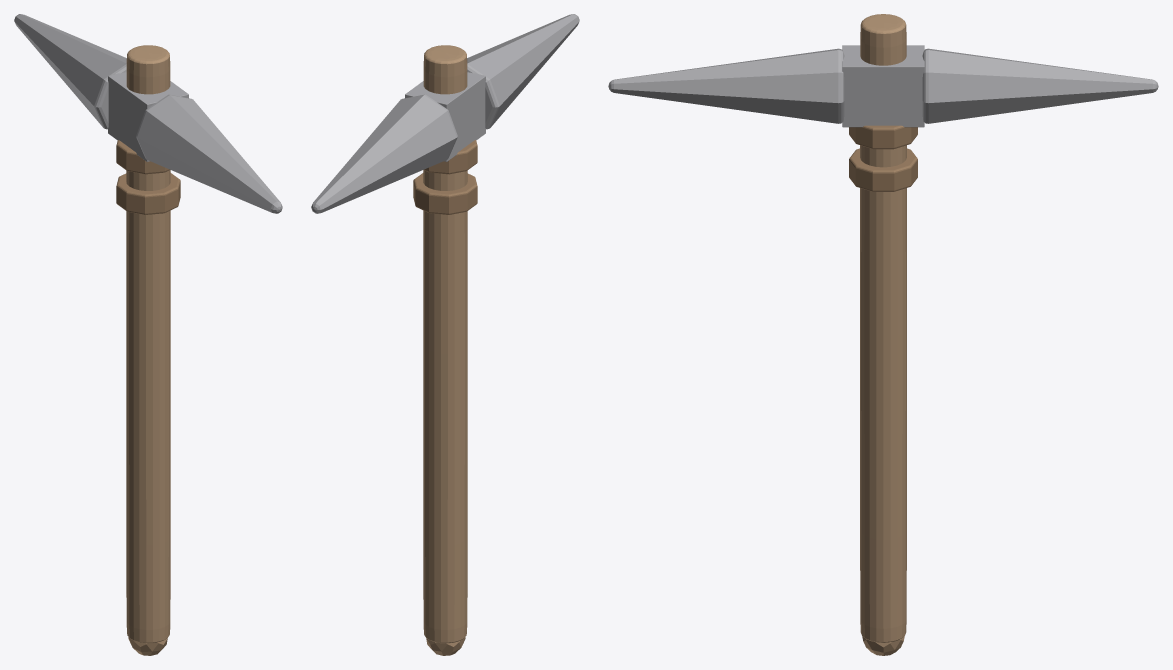
Rendered from 13-Herramientas_pico_piedra.glb.
The picture shows the model from 3 angles, left to right: view 1: azimuth 30°, elevation 25°; view 2: azimuth 150°, elevation 25°; view 3: azimuth 270°, elevation 25°; orthographic projection. The views are drawn at different scales.
Parts seen in each view (by area): view 1: SM_PicoPiedra_M_Madera_Mango, SM_PicoPiedra_M_Piedra_Pico, SM_PicoPiedra_M_Cuero_Atadura; view 2: SM_PicoPiedra_M_Madera_Mango, SM_PicoPiedra_M_Piedra_Pico, SM_PicoPiedra_M_Cuero_Atadura; view 3: SM_PicoPiedra_M_Piedra_Pico, SM_PicoPiedra_M_Madera_Mango, SM_PicoPiedra_M_Cuero_Atadura.
Part boxes in pixels (bbox=[...]): SM_PicoPiedra_M_Madera_Mango: bbox=[126, 45, 170, 655]; SM_PicoPiedra_M_Piedra_Pico: bbox=[14, 14, 282, 213]; SM_PicoPiedra_M_Cuero_Atadura: bbox=[116, 140, 180, 214]; SM_PicoPiedra_M_Madera_Mango: bbox=[423, 45, 467, 655]; SM_PicoPiedra_M_Piedra_Pico: bbox=[311, 14, 579, 213]; SM_PicoPiedra_M_Cuero_Atadura: bbox=[413, 140, 477, 214]; SM_PicoPiedra_M_Piedra_Pico: bbox=[608, 45, 1158, 127]; SM_PicoPiedra_M_Madera_Mango: bbox=[860, 14, 906, 655]; SM_PicoPiedra_M_Cuero_Atadura: bbox=[849, 125, 917, 191].
Bounding box in the file's own units: 0.1019 × 0.8873 × 0.7.
